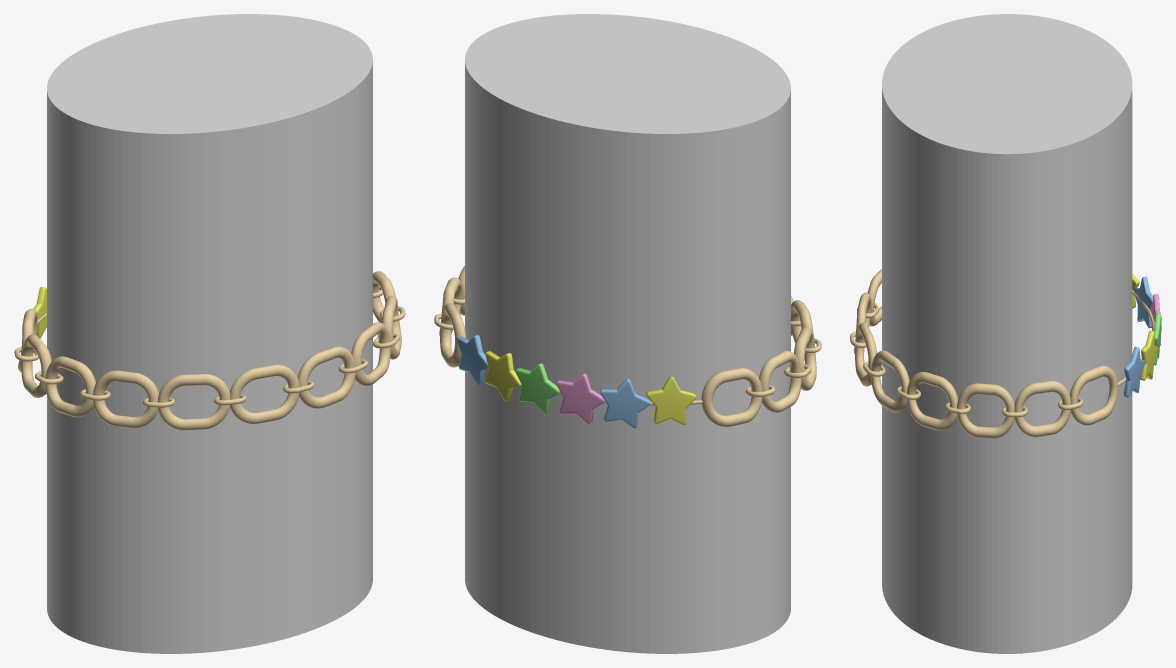
Rendered from brace.glb.
3 renders of one model, left to right at view 1: azimuth 30°, elevation 25°; view 2: azimuth 150°, elevation 25°; view 3: azimuth 270°, elevation 25°, orthographic. The views are drawn at different scales.
Visible parts, largest first — view 1: Body, chain; view 2: Body, chain; view 3: Body, chain.
Part boxes in pixels (x1,y1,x2,y2): Body: [47, 14, 372, 653]; chain: [14, 271, 405, 430]; Body: [465, 14, 790, 653]; chain: [434, 266, 821, 428]; Body: [882, 14, 1132, 653]; chain: [850, 269, 1161, 438].
Bounding box in the file's own units: 0.071 × 0.0997 × 0.0564.
